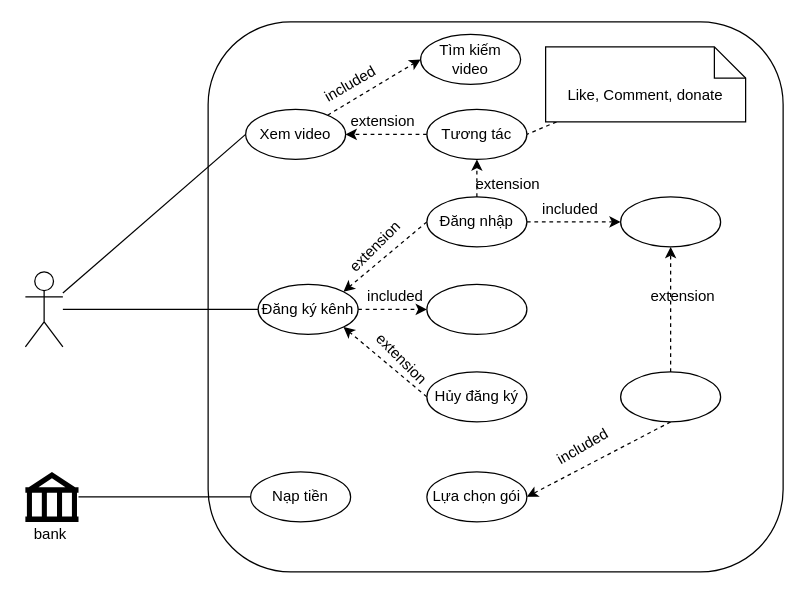
This 806x594 diagram has some shape labels left out. The shapes that lost their labels are listed below. From the top down, each one's centre as x and y in pixels, then its label:
At [670,221]: "Quản lý tài khoản".
At [43,309]: "Viewer".
At [476,308]: "Tìm kiếm kênh".
At [670,396]: "Nâng cấp tài khoản".
